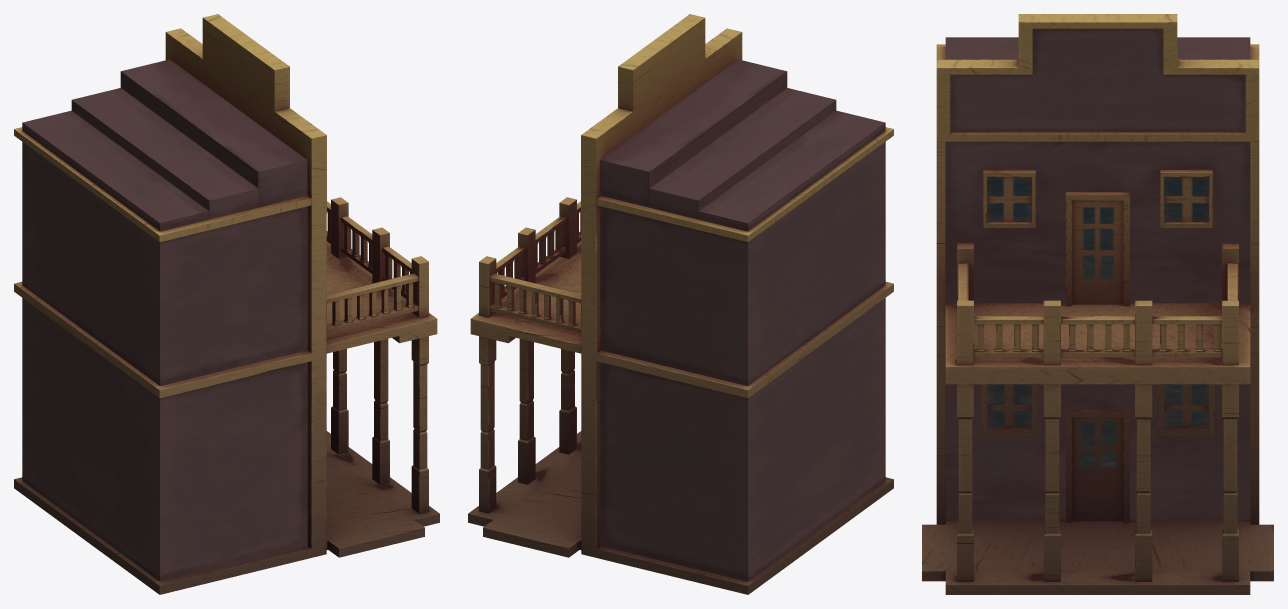
Rendered from DEF_tall_house.fbx.
The picture shows the model from 3 angles, left to right: view 1: azimuth 30°, elevation 25°; view 2: azimuth 150°, elevation 25°; view 3: azimuth 270°, elevation 25°; orthographic projection. The views are drawn at different scales.
Visible parts, largest first — view 1: tall_house, tall_house_base, sign, corrimano, colonne_alte, terrazza_base; view 2: tall_house, tall_house_base, sign, corrimano, colonne_alte, terrazza_base; view 3: tall_house, sign, tall_house_base, terrazza_base, colonne_alte, corrimano.
Boxes of the visible parts, x1,y1,x2,y2 form: tall_house: [14, 59, 326, 581]; tall_house_base: [14, 431, 439, 594]; sign: [165, 14, 326, 204]; corrimano: [326, 197, 428, 332]; colonne_alte: [331, 336, 428, 513]; terrazza_base: [326, 241, 437, 353]; tall_house: [581, 59, 893, 581]; tall_house_base: [468, 431, 893, 594]; sign: [581, 14, 742, 204]; corrimano: [479, 197, 581, 332]; colonne_alte: [479, 336, 576, 513]; terrazza_base: [470, 241, 581, 353]; tall_house: [936, 37, 1259, 522]; sign: [936, 14, 1259, 141]; tall_house_base: [922, 519, 1273, 594]; terrazza_base: [945, 303, 1250, 384]; colonne_alte: [957, 384, 1238, 581]; corrimano: [957, 243, 1238, 365].
Size of the model in its own units: 966 by 1496 by 936.
